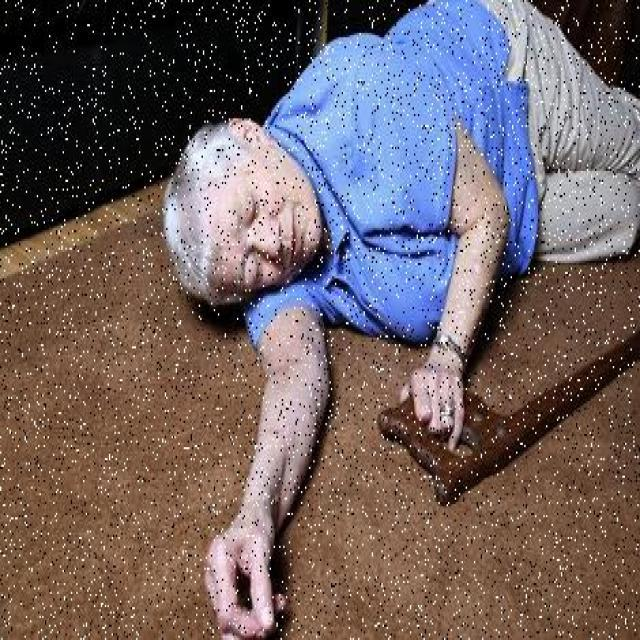fall: (167, 0, 638, 524)
